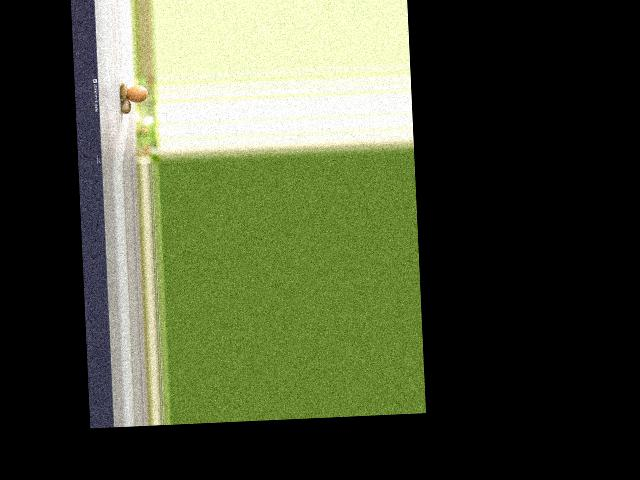egg: (126, 84, 147, 103)
